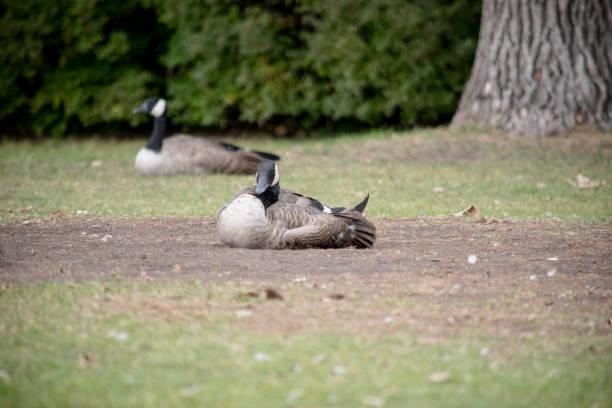Canadian-Goose: (215, 157, 377, 256)
